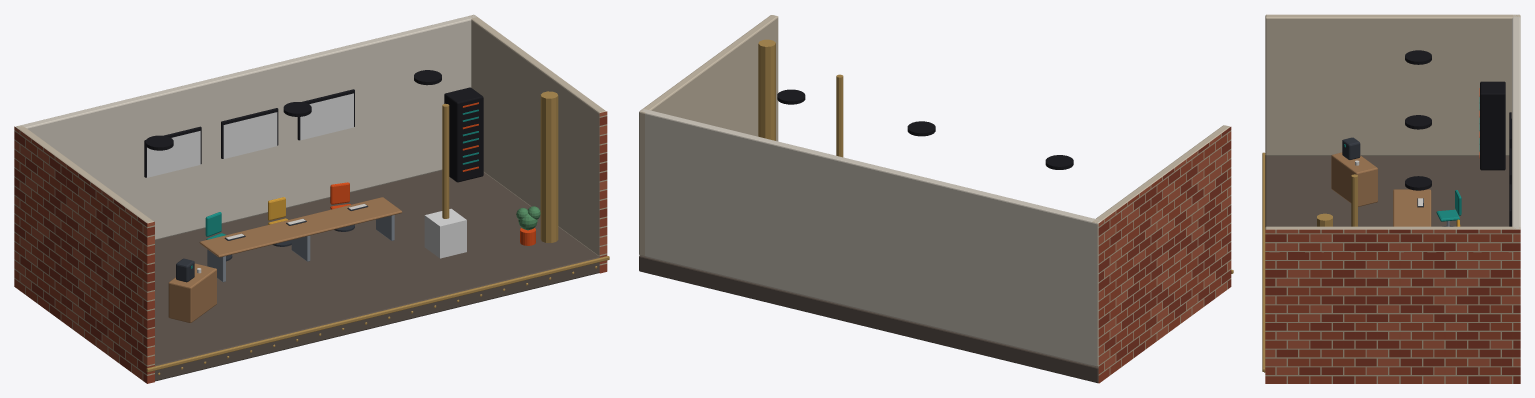
Rendered from basement.glb.
3 renders of one model, left to right at view 1: azimuth 30°, elevation 25°; view 2: azimuth 150°, elevation 25°; view 3: azimuth 270°, elevation 25°, orthographic. The views are drawn at different scales.
Visible parts, largest first — view 1: static, screens, hit__dock; view 2: static; view 3: static.
Part boxes in pixels (bbox=[...]): static: bbox=[14, 14, 609, 383]; screens: bbox=[147, 93, 353, 177]; hit__dock: bbox=[424, 208, 466, 258]; static: bbox=[639, 15, 1233, 383]; static: bbox=[1262, 14, 1520, 383].
Size of the model in its own units: 12.06 by 4.03 by 6.07.
